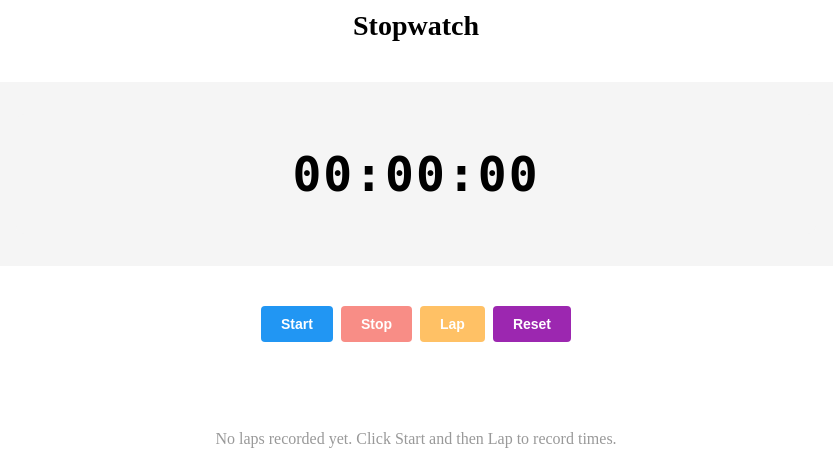
Test: Stopwatch Container Component (T053, T090) › Reset functionality › should re-enable start button after reset
Click the button with test id "button-start".
click(297, 324)  # box [261,306,333,342]
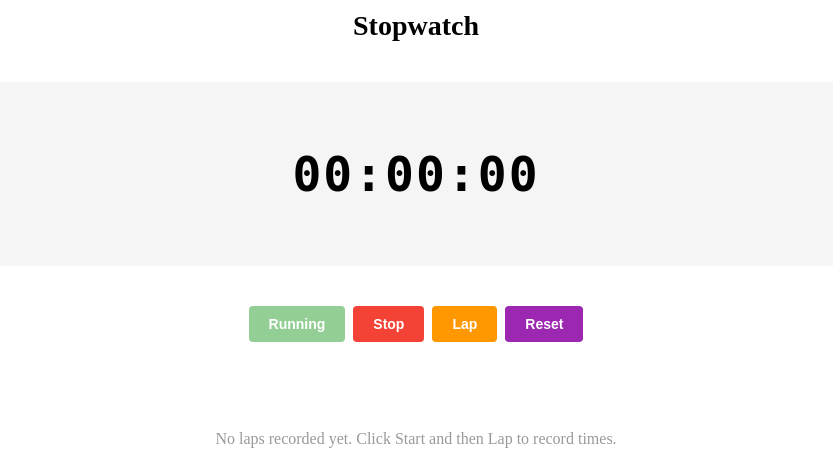
Check: the button with test id "button-start" is disabled, box [248,306,345,342]
Click the button with test id "button-reset".
click(544, 324)  # box [505,306,583,342]
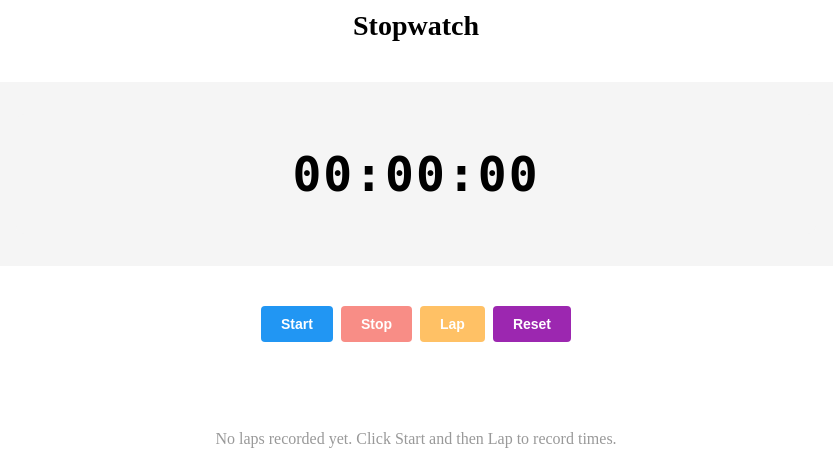
Check: the button with test id "button-start" is enabled, box [261,306,333,342]
